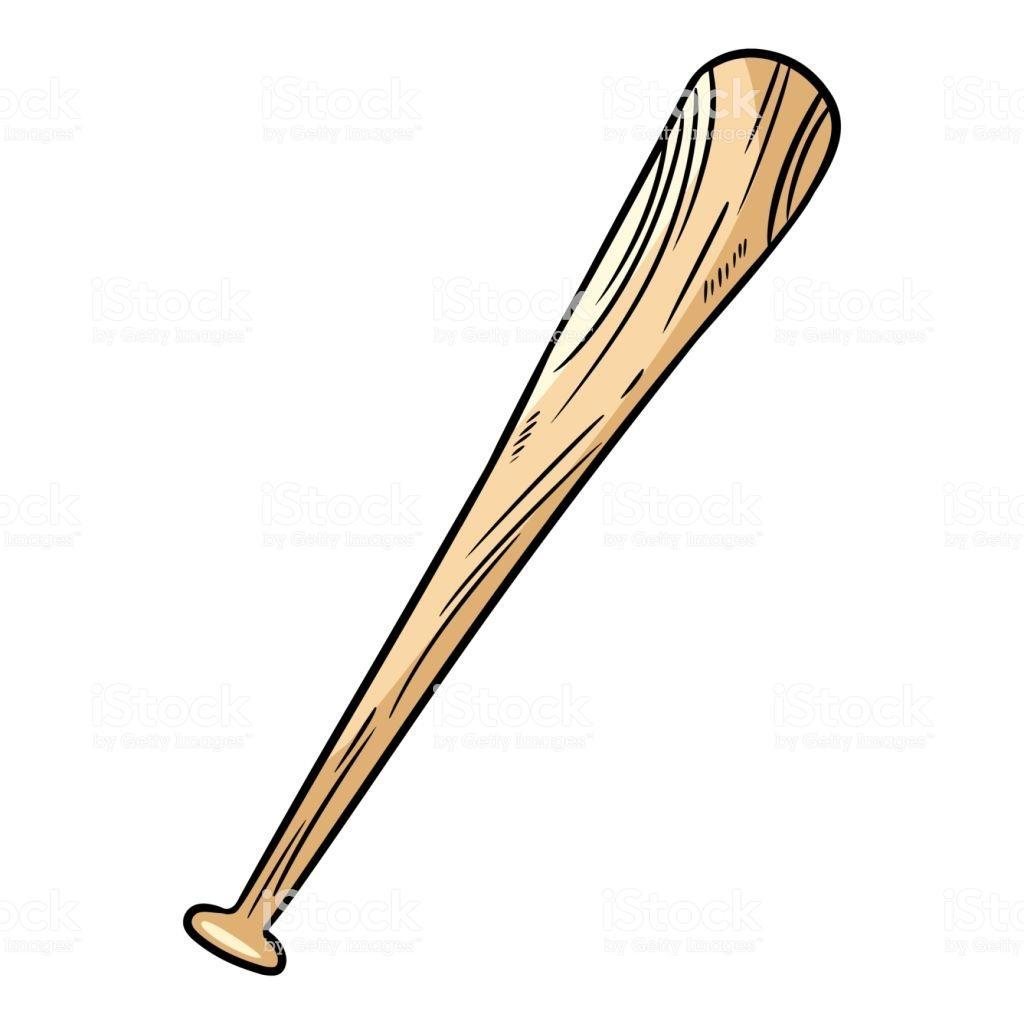Baseball-Bat: (218, 20, 872, 960)
